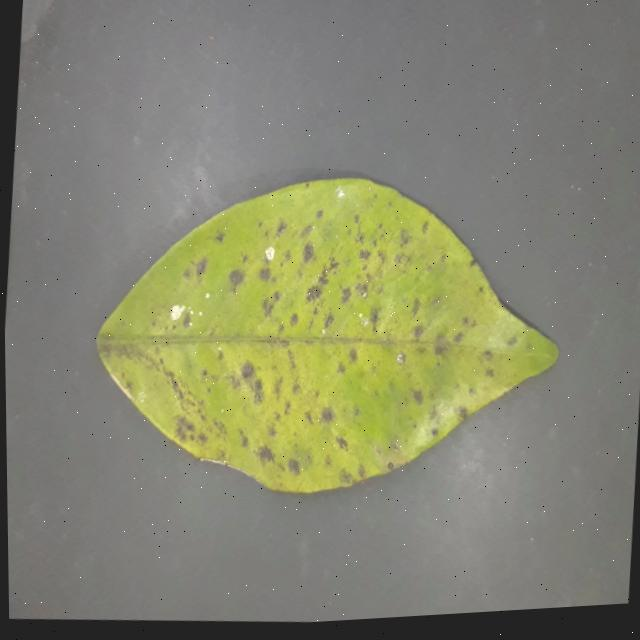greasy_spot: (95, 177, 557, 491)
